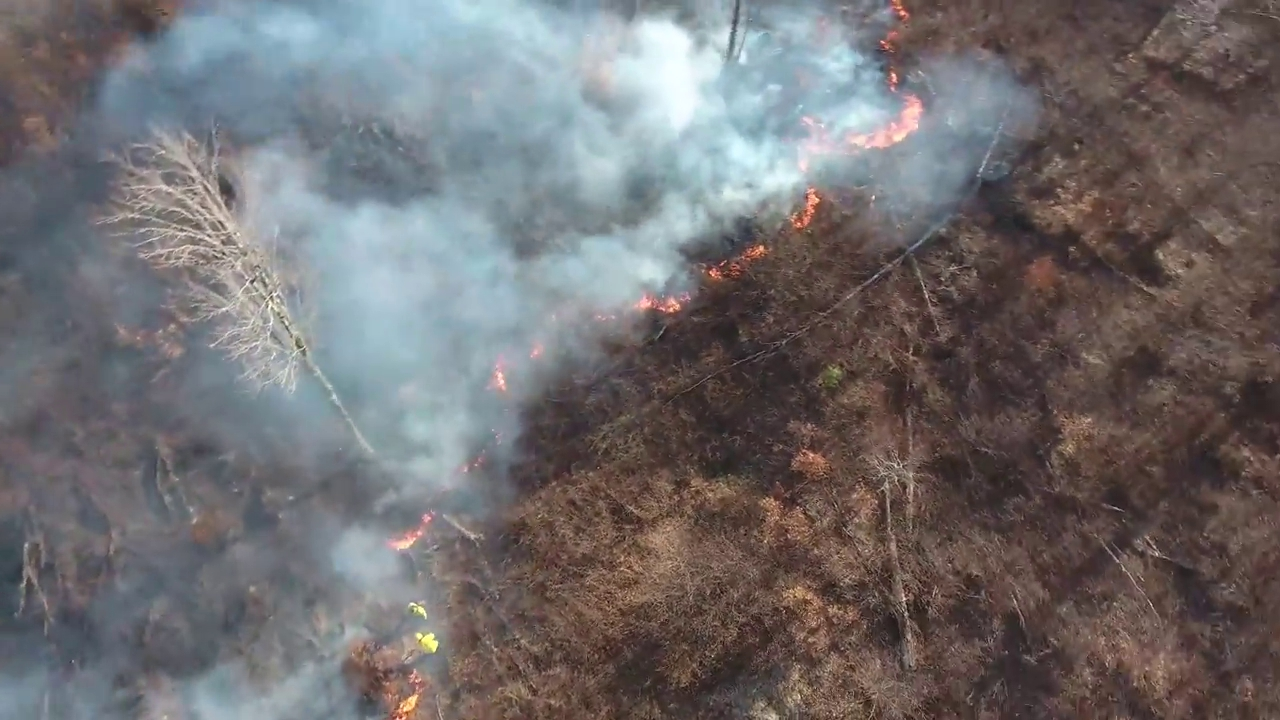forest_fire: (801, 69, 923, 169), (387, 512, 478, 552), (703, 244, 767, 280), (388, 670, 424, 719), (788, 188, 819, 230), (634, 293, 691, 314), (489, 362, 507, 391), (879, 29, 899, 54), (889, 0, 909, 22)
